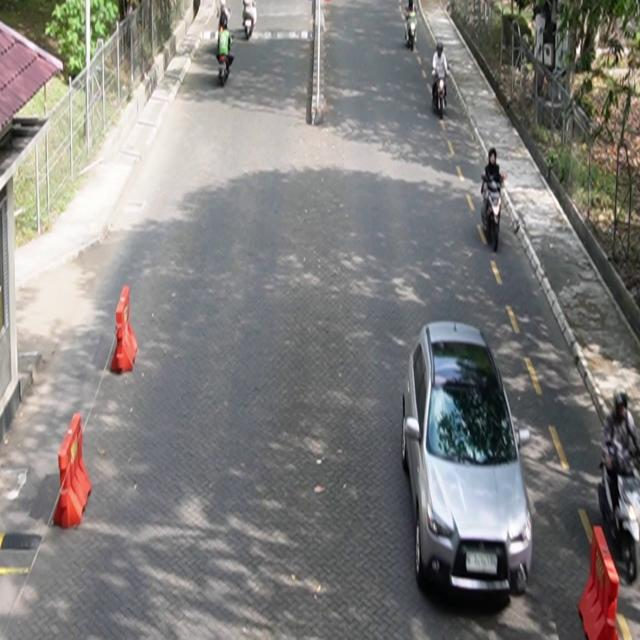car: (402, 320, 534, 602)
